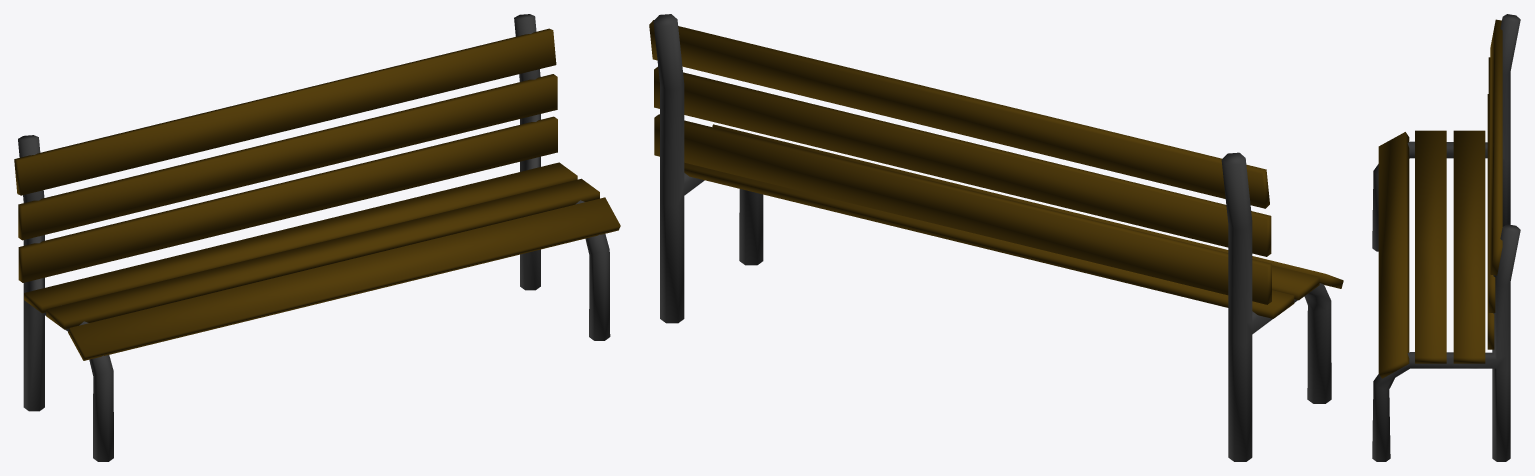
The model's file is Bench.fbx.
3 renders of one model, left to right at view 1: azimuth 30°, elevation 25°; view 2: azimuth 150°, elevation 25°; view 3: azimuth 270°, elevation 25°, orthographic. The views are drawn at different scales.
Visible parts, largest first — view 1: Cube; view 2: Cube; view 3: Cube.
Boxes of the visible parts, left/top/right/bottom form: Cube: left=14, top=14, right=620, bottom=461; Cube: left=649, top=14, right=1343, bottom=461; Cube: left=1372, top=14, right=1520, bottom=461.
Size of the model in its own units: 9.23 by 4.4 by 2.55.
